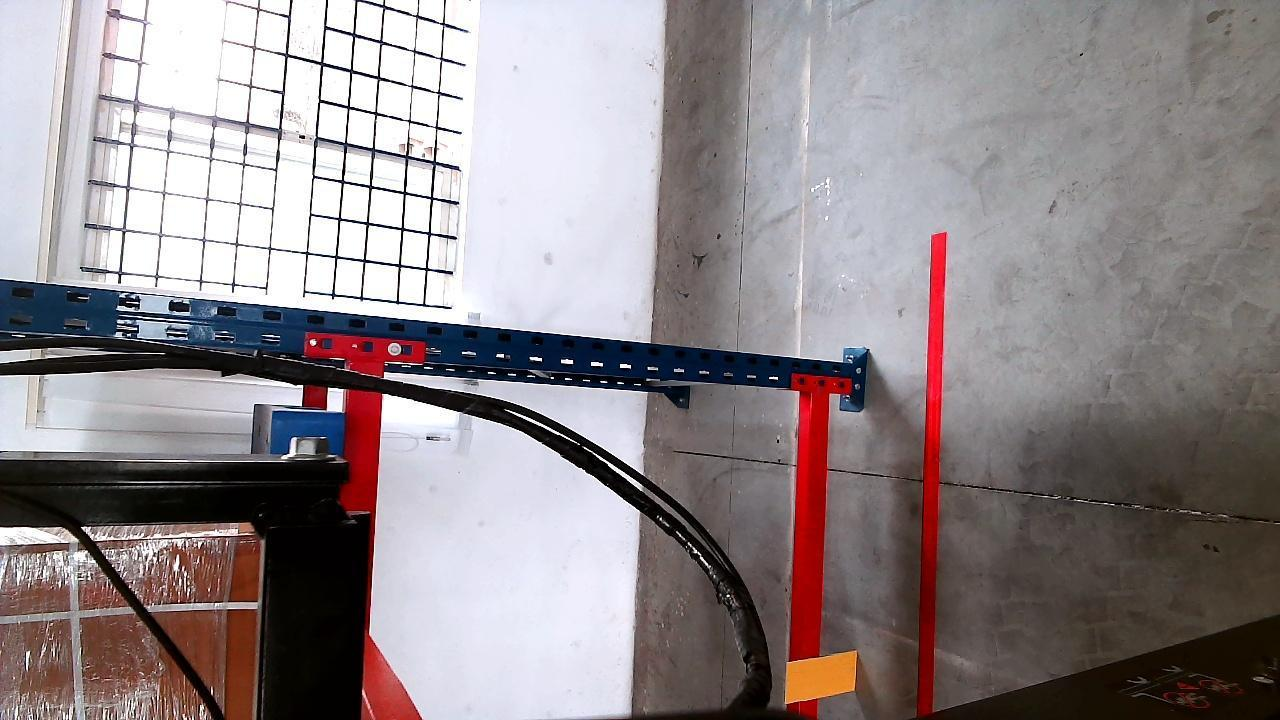h_rack: (355, 370, 386, 713), (793, 381, 825, 699)
orange_strip: (786, 650, 860, 703)
red_line: (919, 245, 945, 709), (355, 369, 383, 711)
